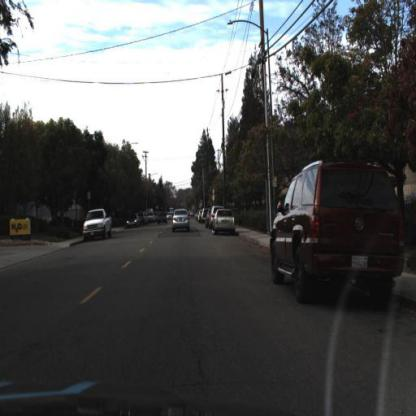car: (269, 159, 408, 305), (81, 205, 114, 245), (83, 209, 112, 241), (210, 205, 237, 237), (211, 209, 239, 237), (171, 207, 192, 237), (171, 207, 191, 235), (124, 209, 141, 232), (154, 206, 170, 229)
